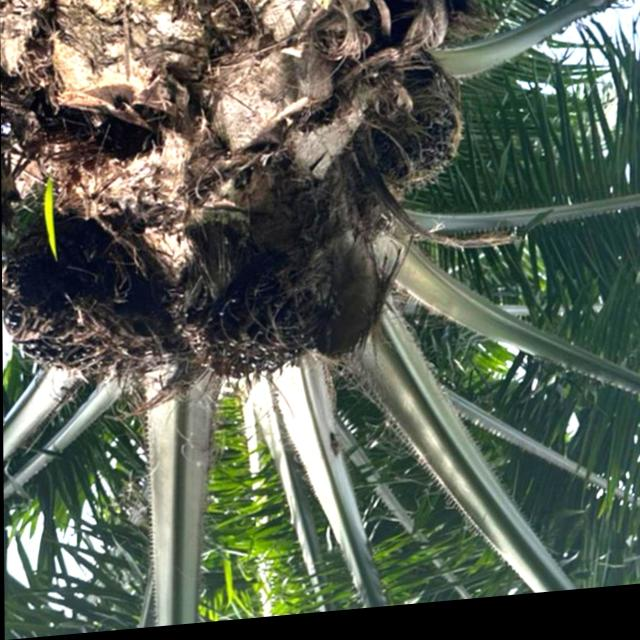ripe: (197, 271, 311, 401), (9, 274, 140, 382), (387, 84, 469, 200)
